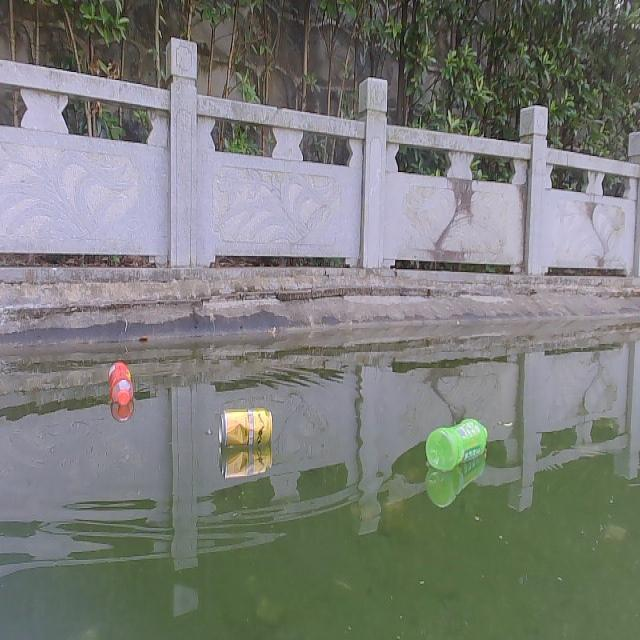Bottle: (421, 413, 489, 472), (105, 360, 134, 407)
Can: (216, 404, 276, 449)
